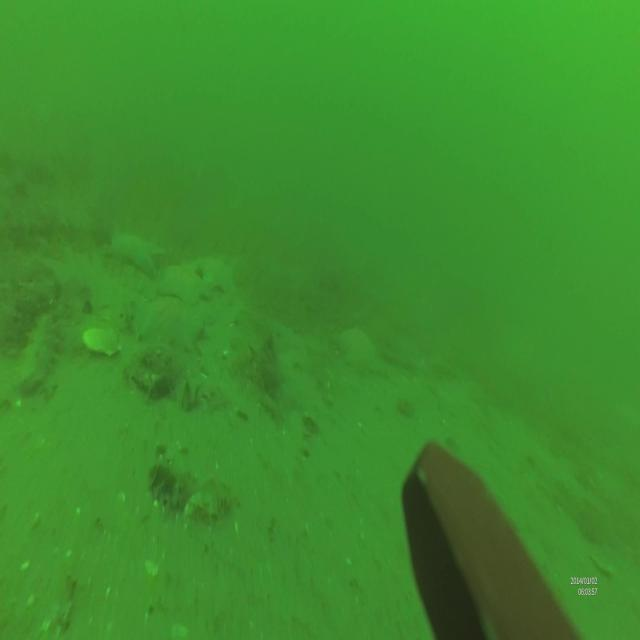holothurian: (16, 294, 74, 408), (1, 268, 58, 355)
scallop: (82, 323, 122, 357)
starfish: (105, 222, 165, 284), (335, 325, 388, 377), (158, 259, 207, 309), (194, 252, 233, 295)
